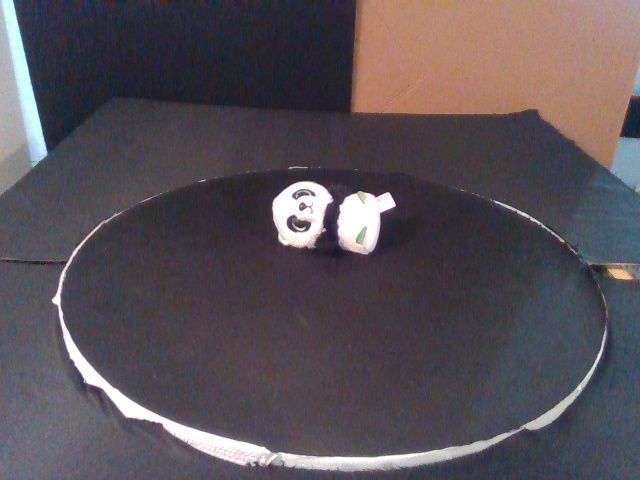teddy_bear: (271, 180, 382, 256)
